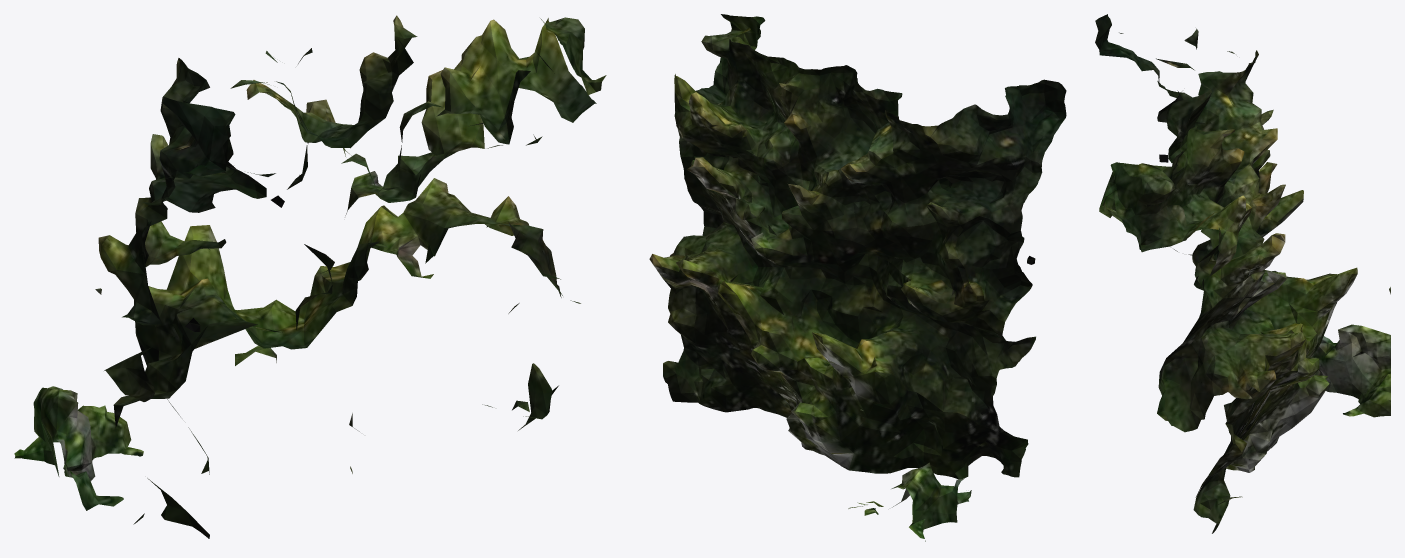
3 views of the same model, side by side, from view 1: azimuth 30°, elevation 25°; view 2: azimuth 150°, elevation 25°; view 3: azimuth 270°, elevation 25° (orthographic). The views are drawn at different scales.
Bounding box in the file's own units: 3.35 × 3.35 × 2.49.
5 materials, 5 textured.
